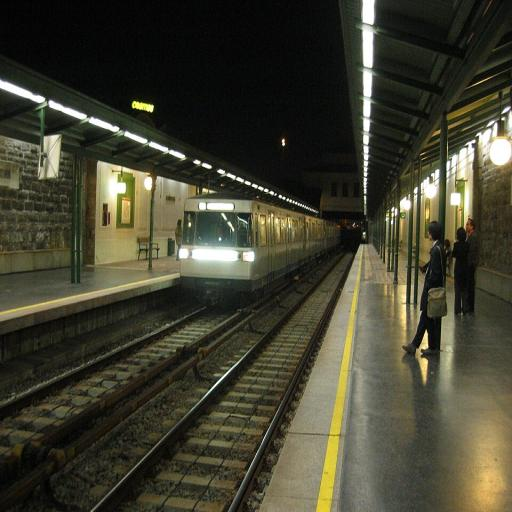Silberpfeil: (175, 189, 340, 307)
